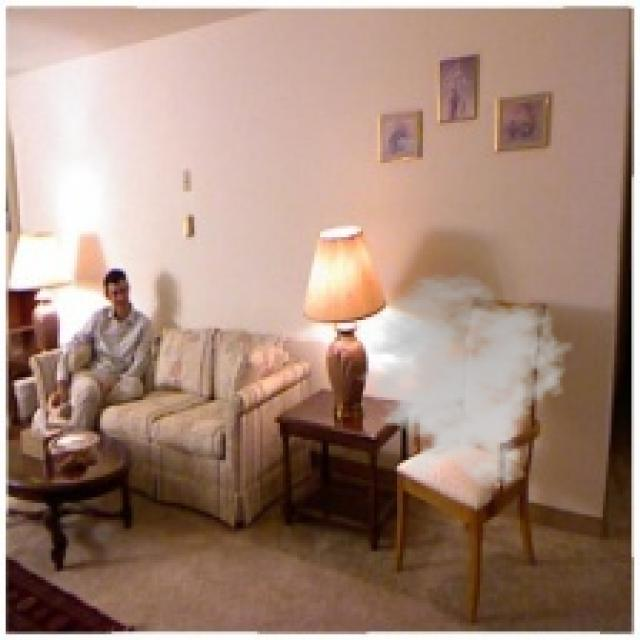smoke: (343, 272, 574, 488)
